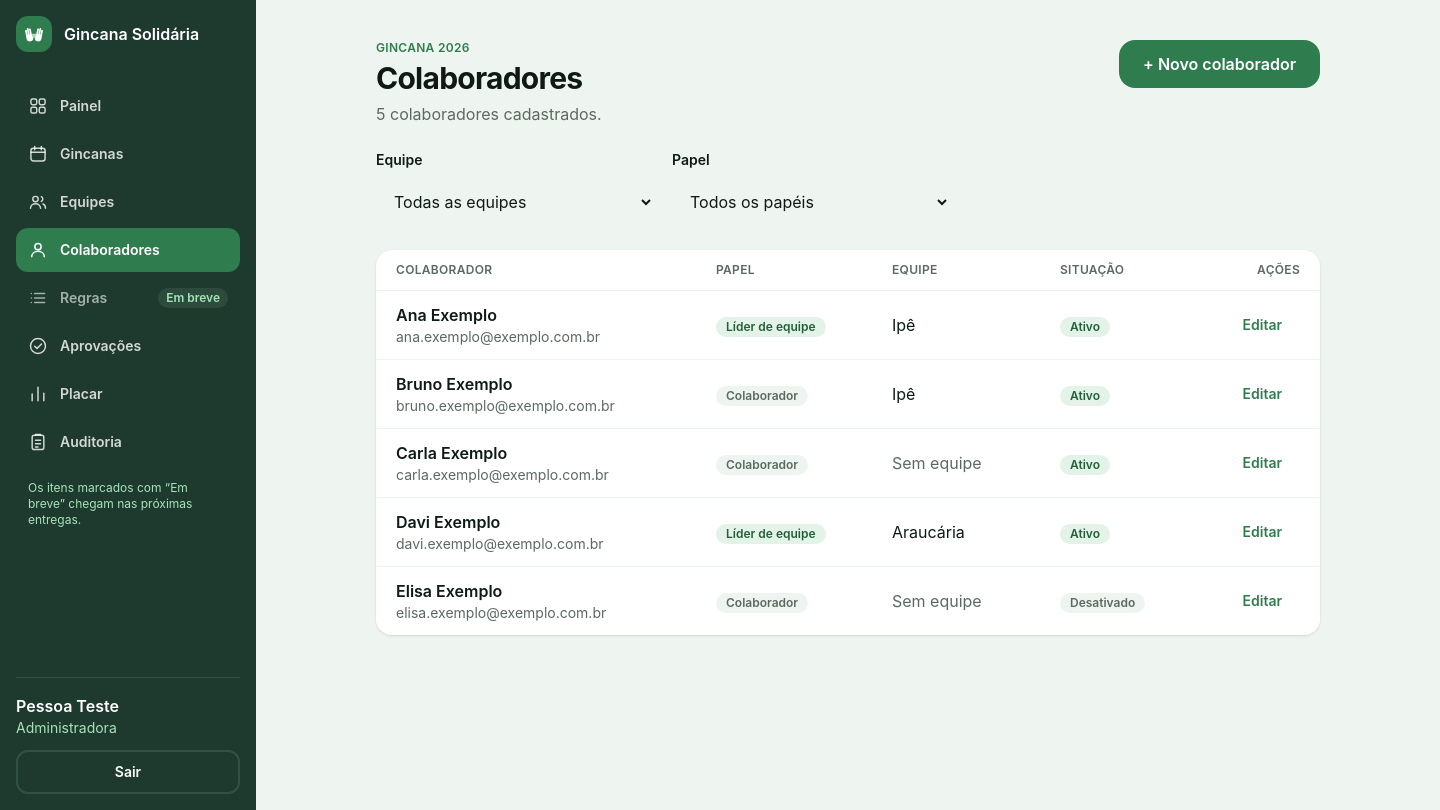
Scenario: Colaboradores (US03) › editar › tira a pessoa da equipe quando se escolhe "Sem equipe"
The image size is (1440, 810).
Click the button with aria-label "Editar Bruno Exemplo" at coordinates (1262, 394), box [1224,372,1300,416]
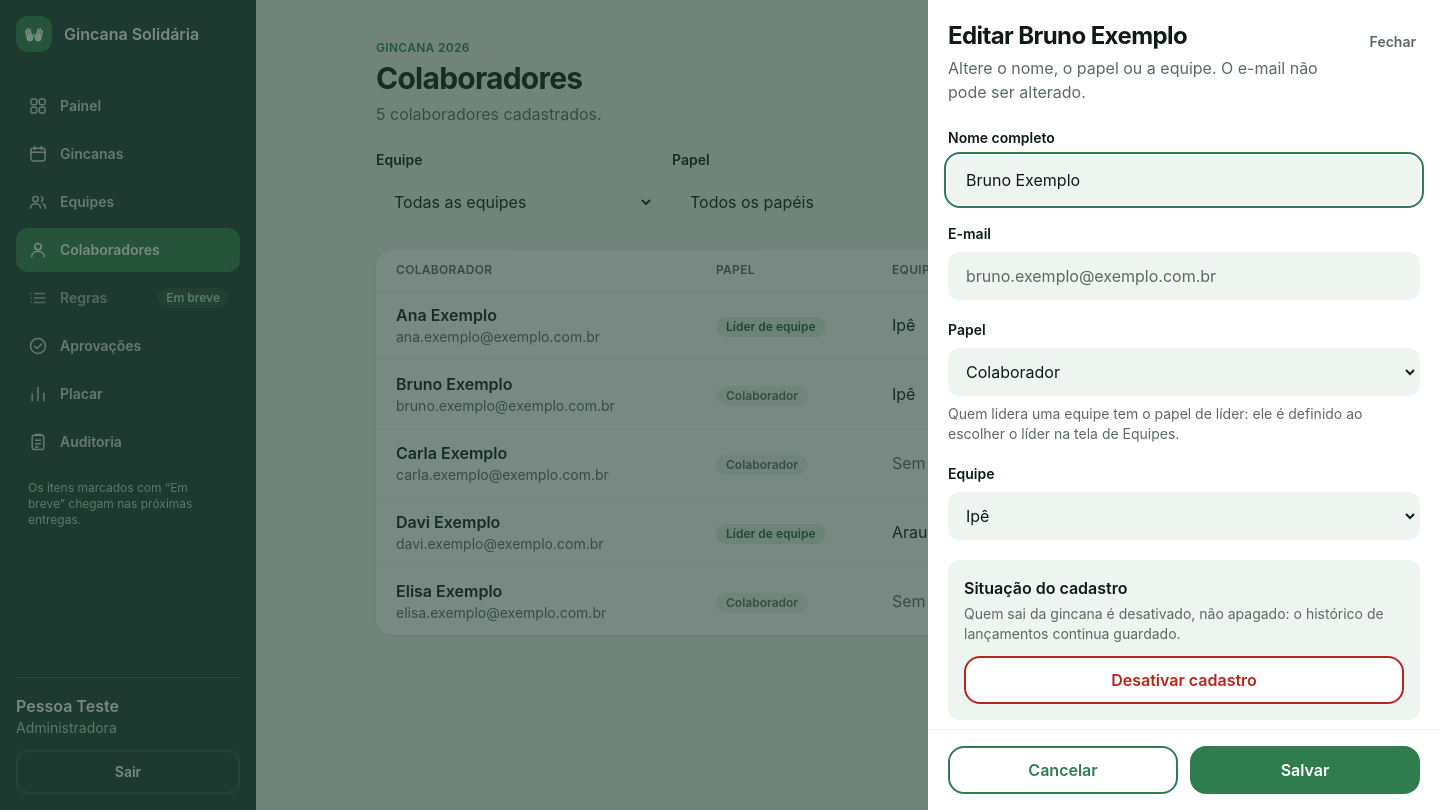
Select "Sem equipe" in the dropdown labelled "Equipe" at coordinates (1184, 516), box [948,492,1420,540]
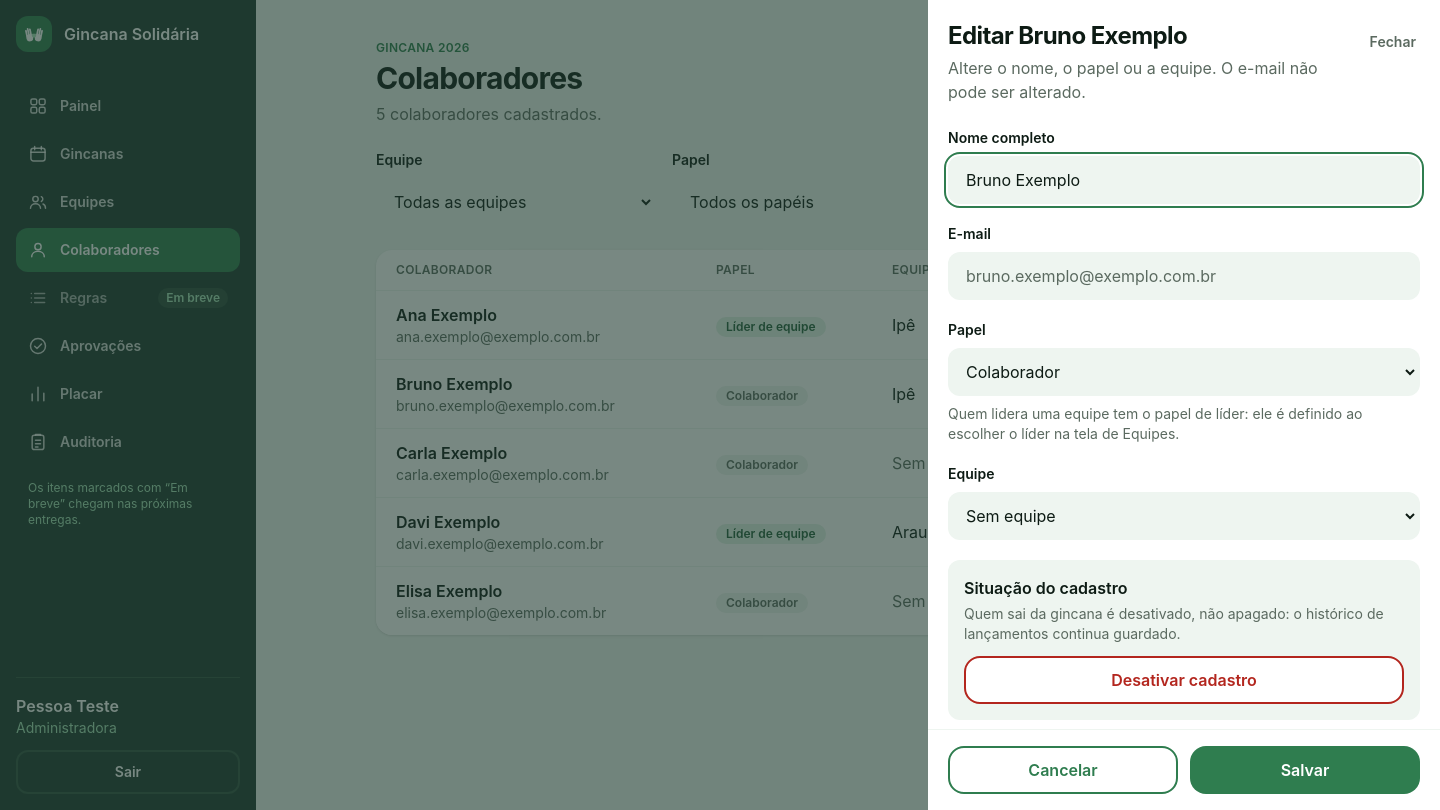
Click the button "Salvar" at coordinates (1305, 770), box [1190,746,1420,794]
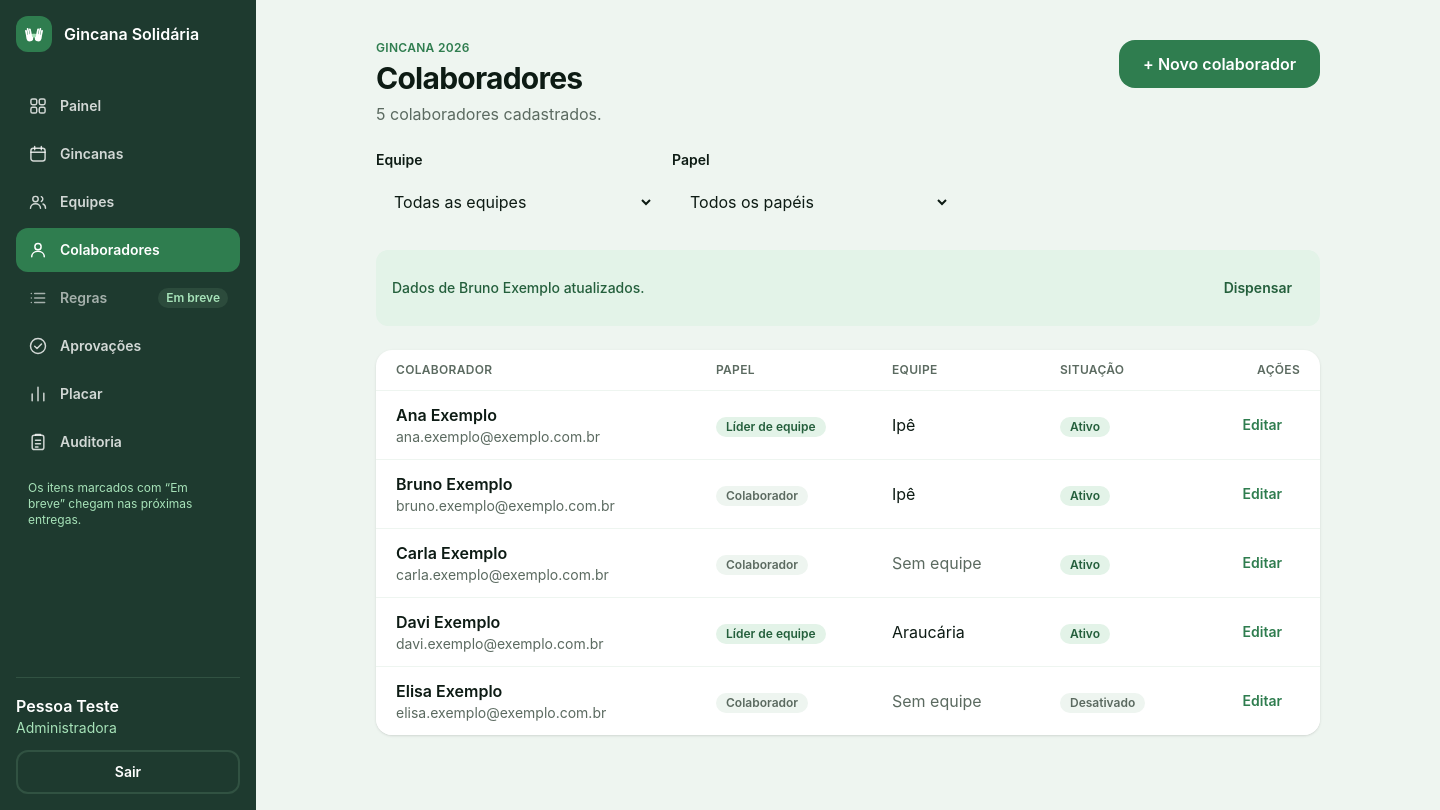
Check: the message "Dados de Bruno Exemplo atualizados. Dispensar" is shown, box [376,250,1320,326]
